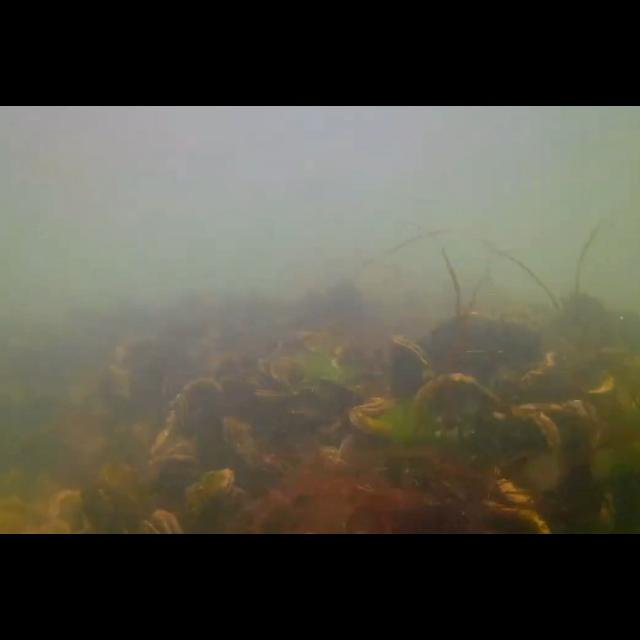Oyster-Closed: (393, 334, 435, 414), (184, 470, 238, 512), (344, 396, 404, 432), (251, 385, 295, 407)
Oyster-Indeterminate: (411, 373, 505, 445), (523, 400, 607, 460), (491, 409, 563, 465), (178, 379, 228, 458), (150, 392, 190, 472), (221, 416, 263, 480), (482, 499, 552, 535), (314, 375, 368, 419), (490, 470, 544, 504), (146, 440, 197, 476)
